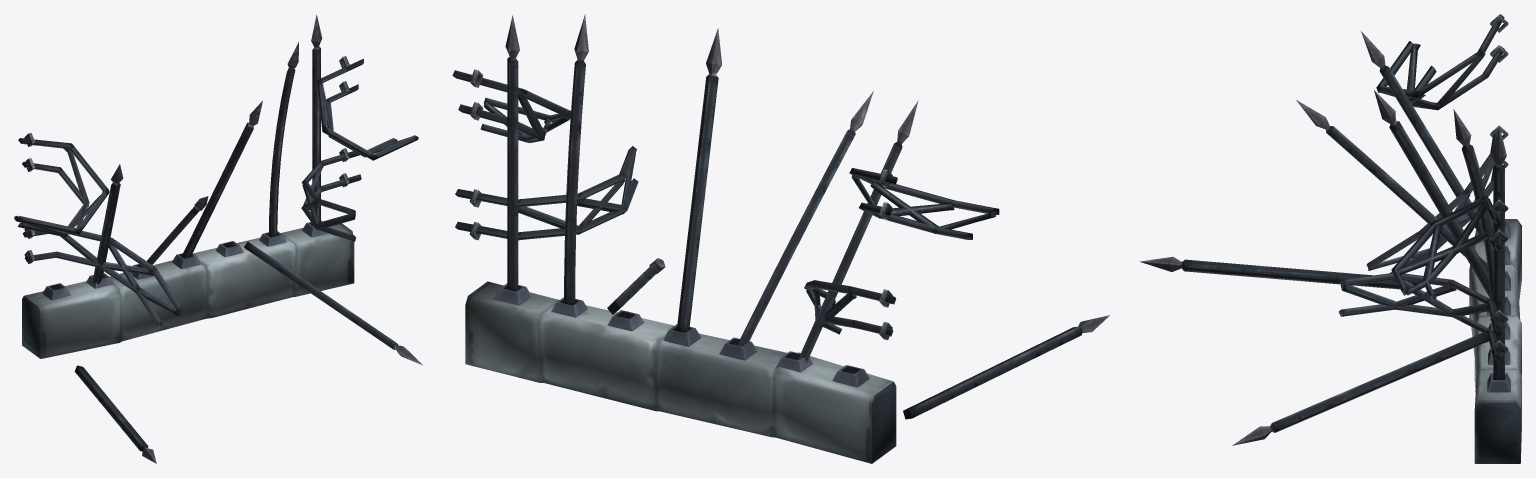
File: env_cem_verja_07.fbx
3 views of the same model, side by side, from view 1: azimuth 30°, elevation 25°; view 2: azimuth 150°, elevation 25°; view 3: azimuth 270°, elevation 25° (orthographic). The views are drawn at different scales.
Visible parts, largest first — view 1: env_cem_verja_07; view 2: env_cem_verja_07; view 3: env_cem_verja_07.
Boxes of the visible parts, x1,y1,x2,y2 form: env_cem_verja_07: (14,15,422,463); env_cem_verja_07: (452,14,1109,463); env_cem_verja_07: (1140,14,1521,463).
Size of the model in its own units: 760 by 491 by 525.
